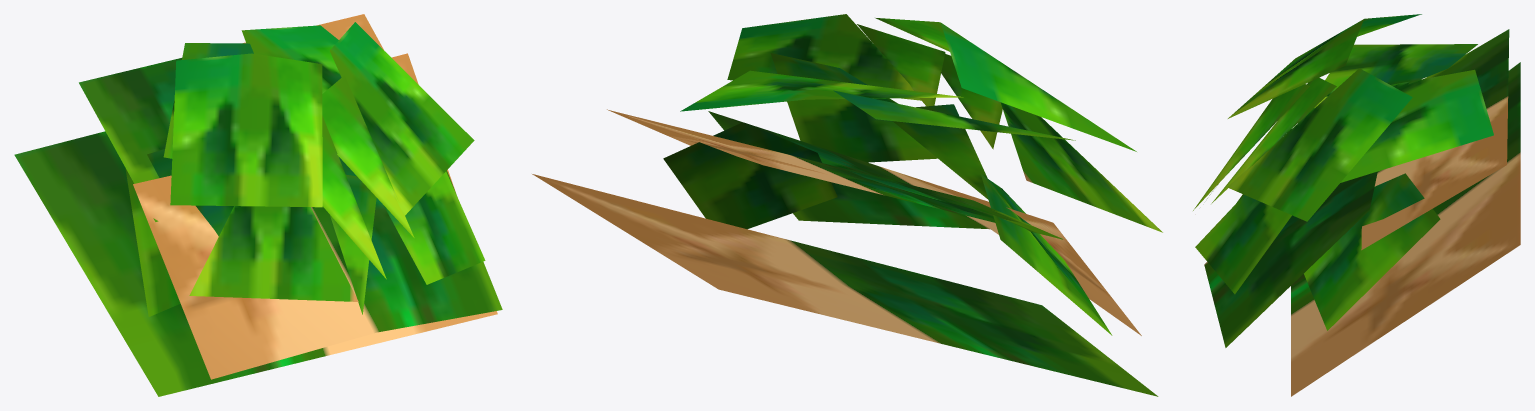
Rendered from fg_bushE_2.dae.
The picture shows the model from 3 angles, left to right: view 1: azimuth 30°, elevation 25°; view 2: azimuth 150°, elevation 25°; view 3: azimuth 270°, elevation 25°; orthographic projection. The views are drawn at different scales.
Parts seen in each view (by area): view 1: fg_bushE_2; view 2: fg_bushE_2; view 3: fg_bushE_2.
Part boxes in pixels (left/top/right/bottom): fg_bushE_2: left=14, top=14, right=502, bottom=396; fg_bushE_2: left=532, top=14, right=1162, bottom=396; fg_bushE_2: left=1193, top=14, right=1520, bottom=396.
Bounding box in the file's own units: 50.84 × 35.08 × 37.48.
1 material, 1 textured.
